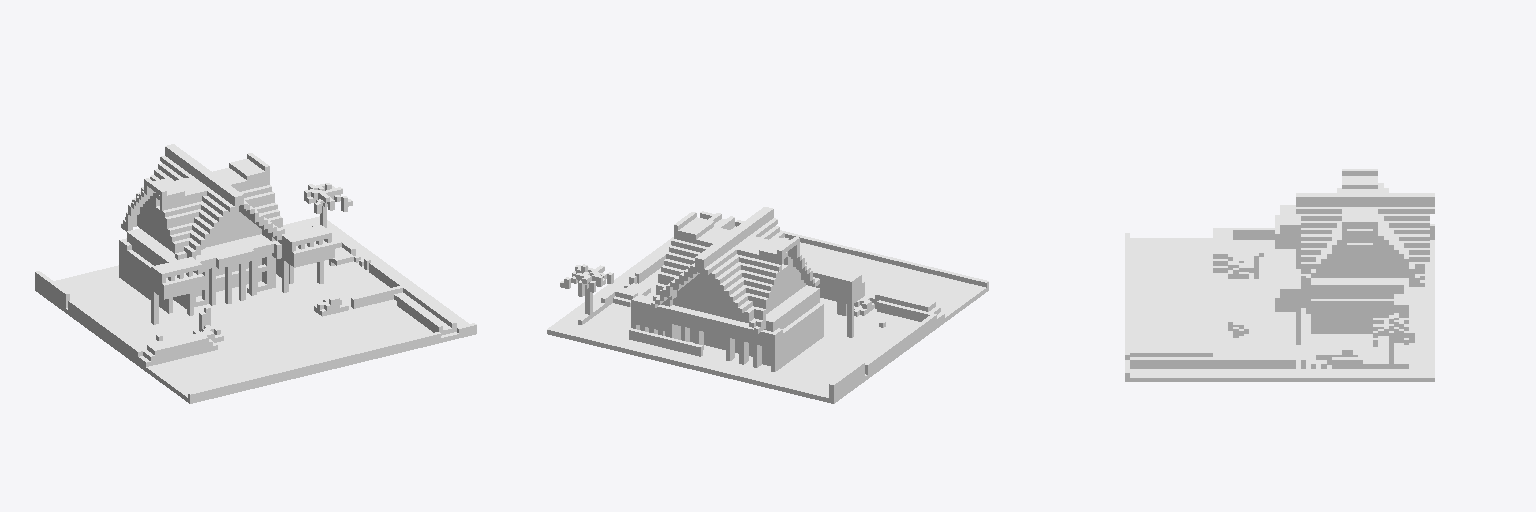
The model's file is umeyamadaichi-5.obj.
The picture shows the model from 3 angles: view 1: azimuth 30°, elevation 25°; view 2: azimuth 150°, elevation 25°; view 3: azimuth 270°, elevation 25°; orthographic projection.
Visible parts, largest first — view 1: object 1; view 2: object 1; view 3: object 1.
Part boxes in pixels (bbox=[...]): object 1: bbox=[35, 144, 476, 403]; object 1: bbox=[547, 207, 988, 403]; object 1: bbox=[1125, 169, 1434, 381].
Bounding box in the file's own units: 6.4 × 2.4 × 6.